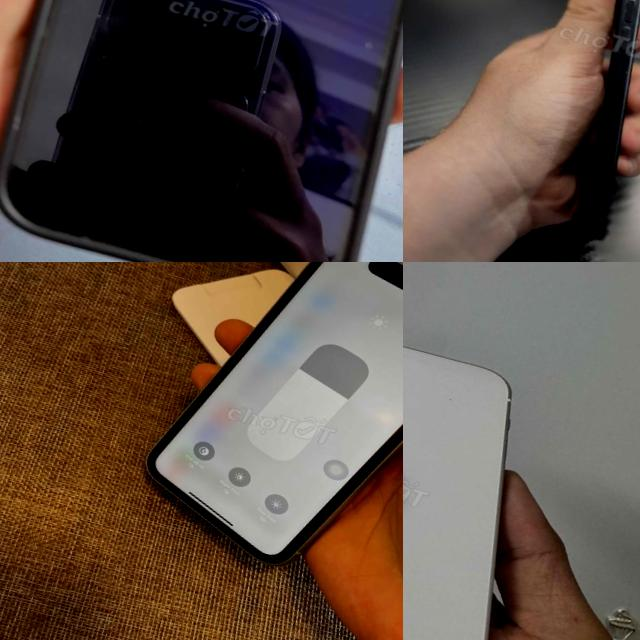scratch: (607, 0, 640, 59)
